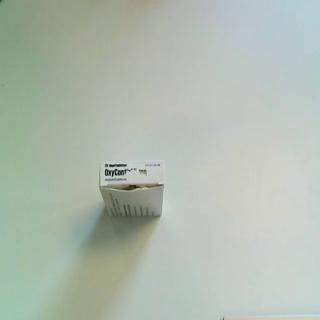oxycontin5mg: (99, 158, 167, 222)
